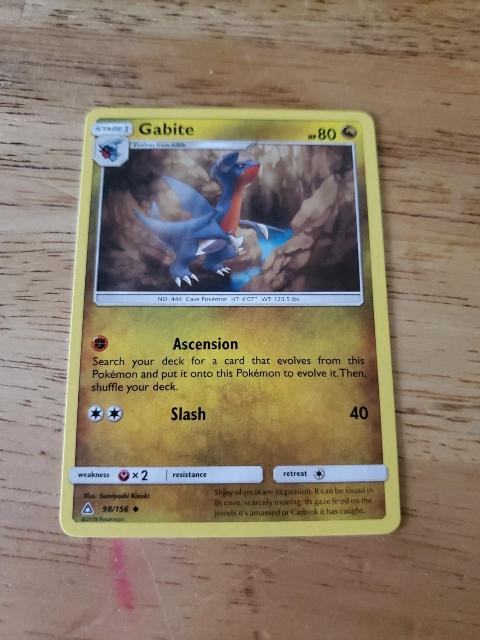Card: (53, 106, 407, 542)
Name: (137, 117, 198, 139)
